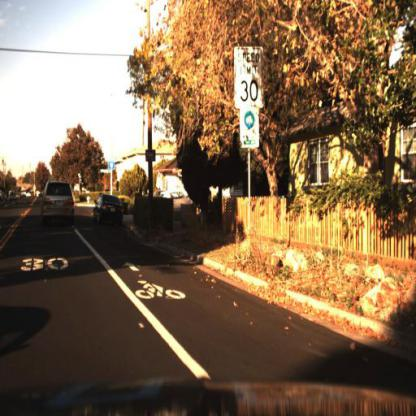car: (41, 180, 77, 223), (92, 193, 126, 230)
